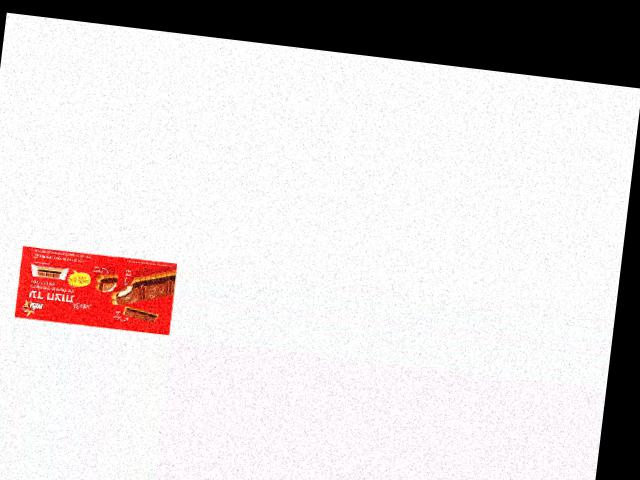chocolate: (11, 244, 178, 336)
